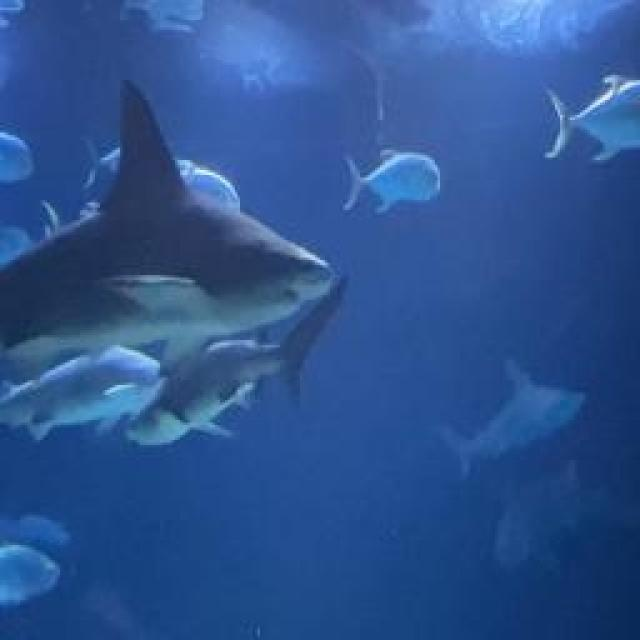primary: (0, 78, 334, 386)
shark: (125, 275, 350, 446), (0, 335, 170, 440), (438, 357, 584, 475), (495, 460, 640, 572)
